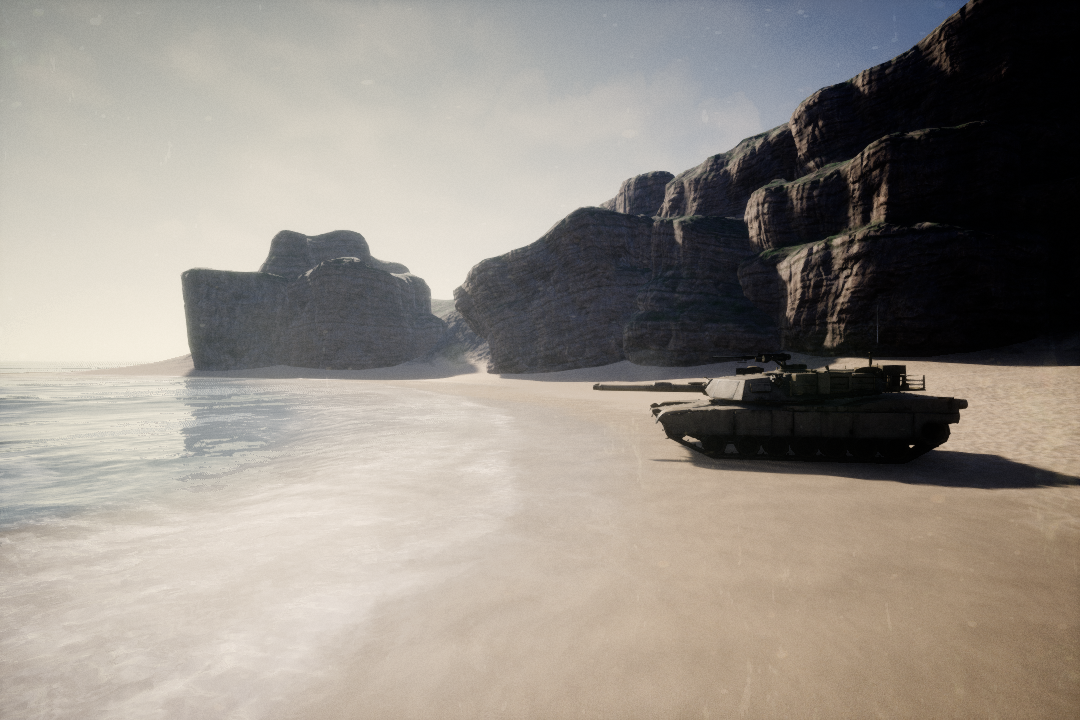tank: (590, 356, 971, 470)
